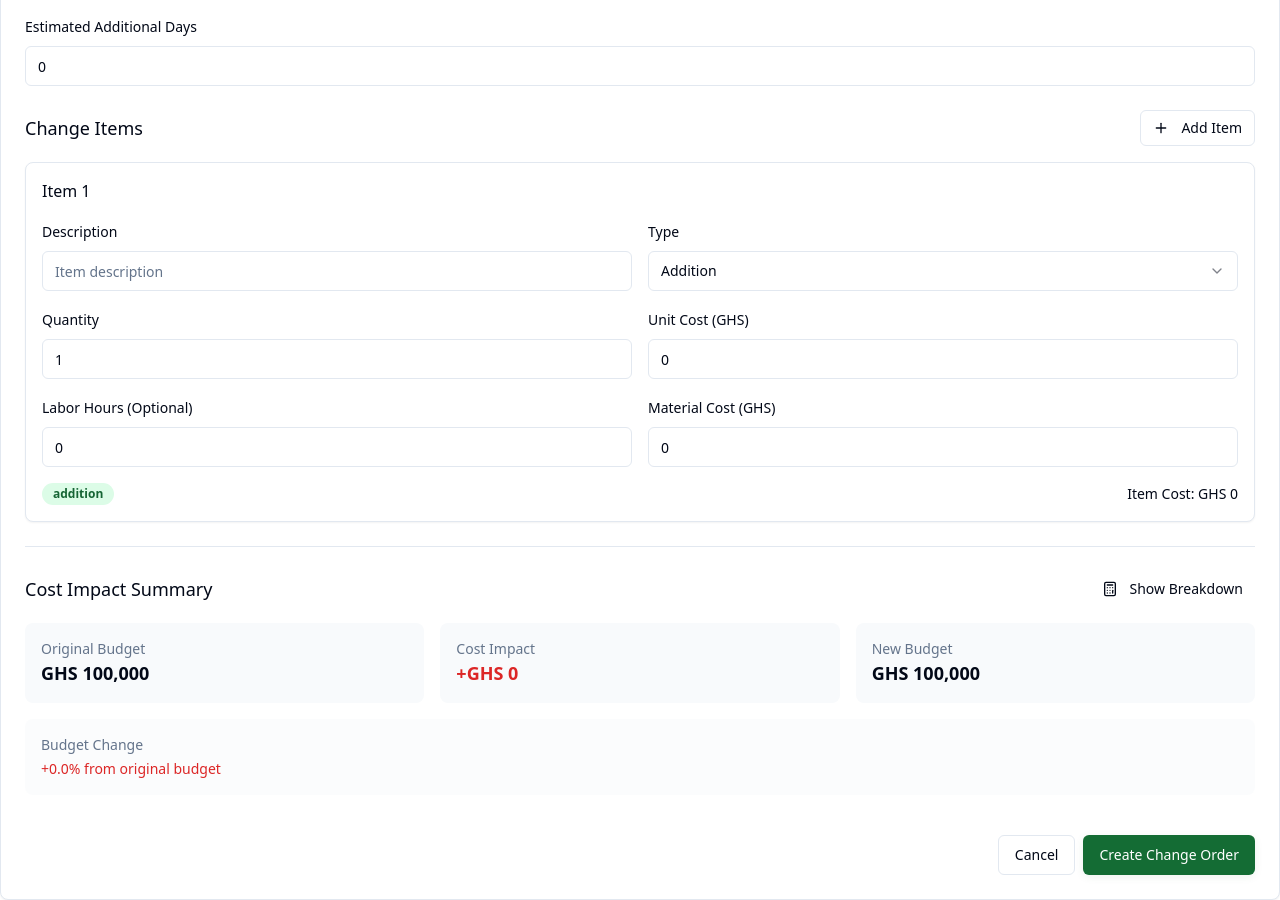
Test: ChangeOrderForm › shows/hides cost breakdown
(page scrolled)
Click the button "Show Breakdown" at (1172, 589), box [1090, 571, 1255, 607]
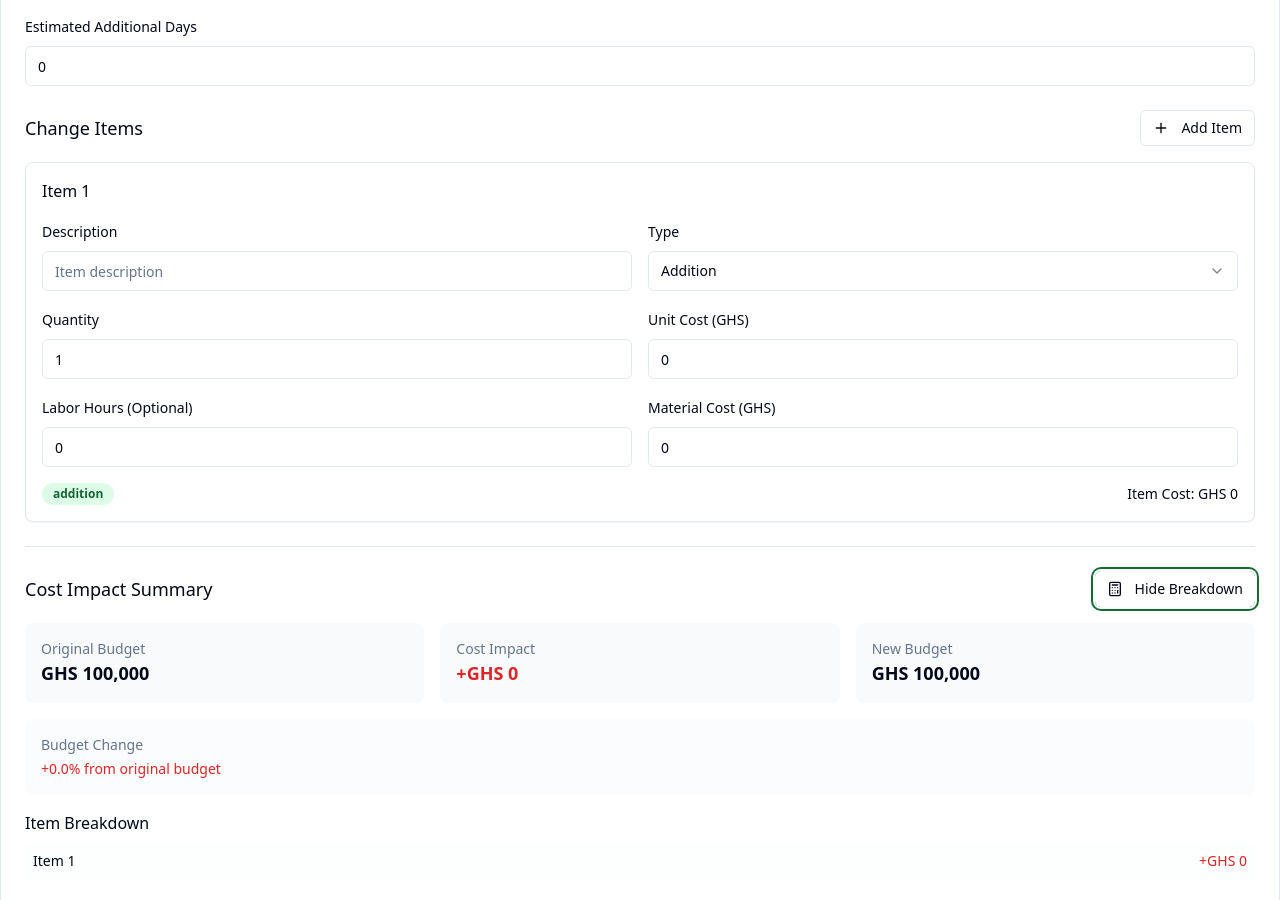
expect the heading "Item Breakdown" is shown: met, box [25, 812, 149, 834]
expect the button "Hide Breakdown" is shown: met, box [1095, 571, 1255, 607]
